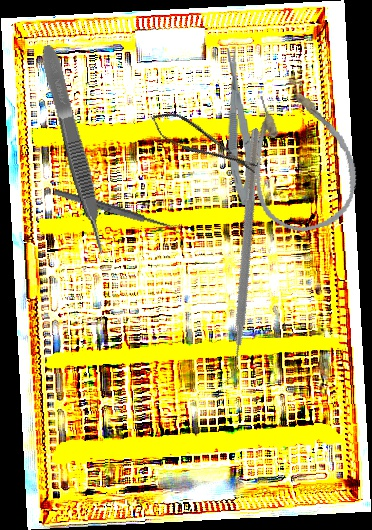Cannula: (234, 77, 368, 241)
Chopper: (121, 127, 354, 387)
Micro Scissor: (146, 103, 262, 185), (220, 46, 258, 206)
Surgical Spoon: (53, 187, 182, 235)
Tissue Forceps: (37, 42, 111, 258)
